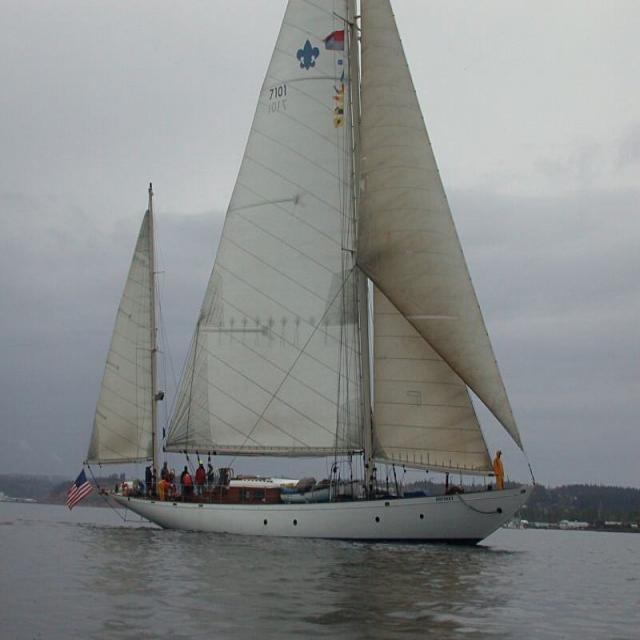Ship: (63, 3, 542, 553)
